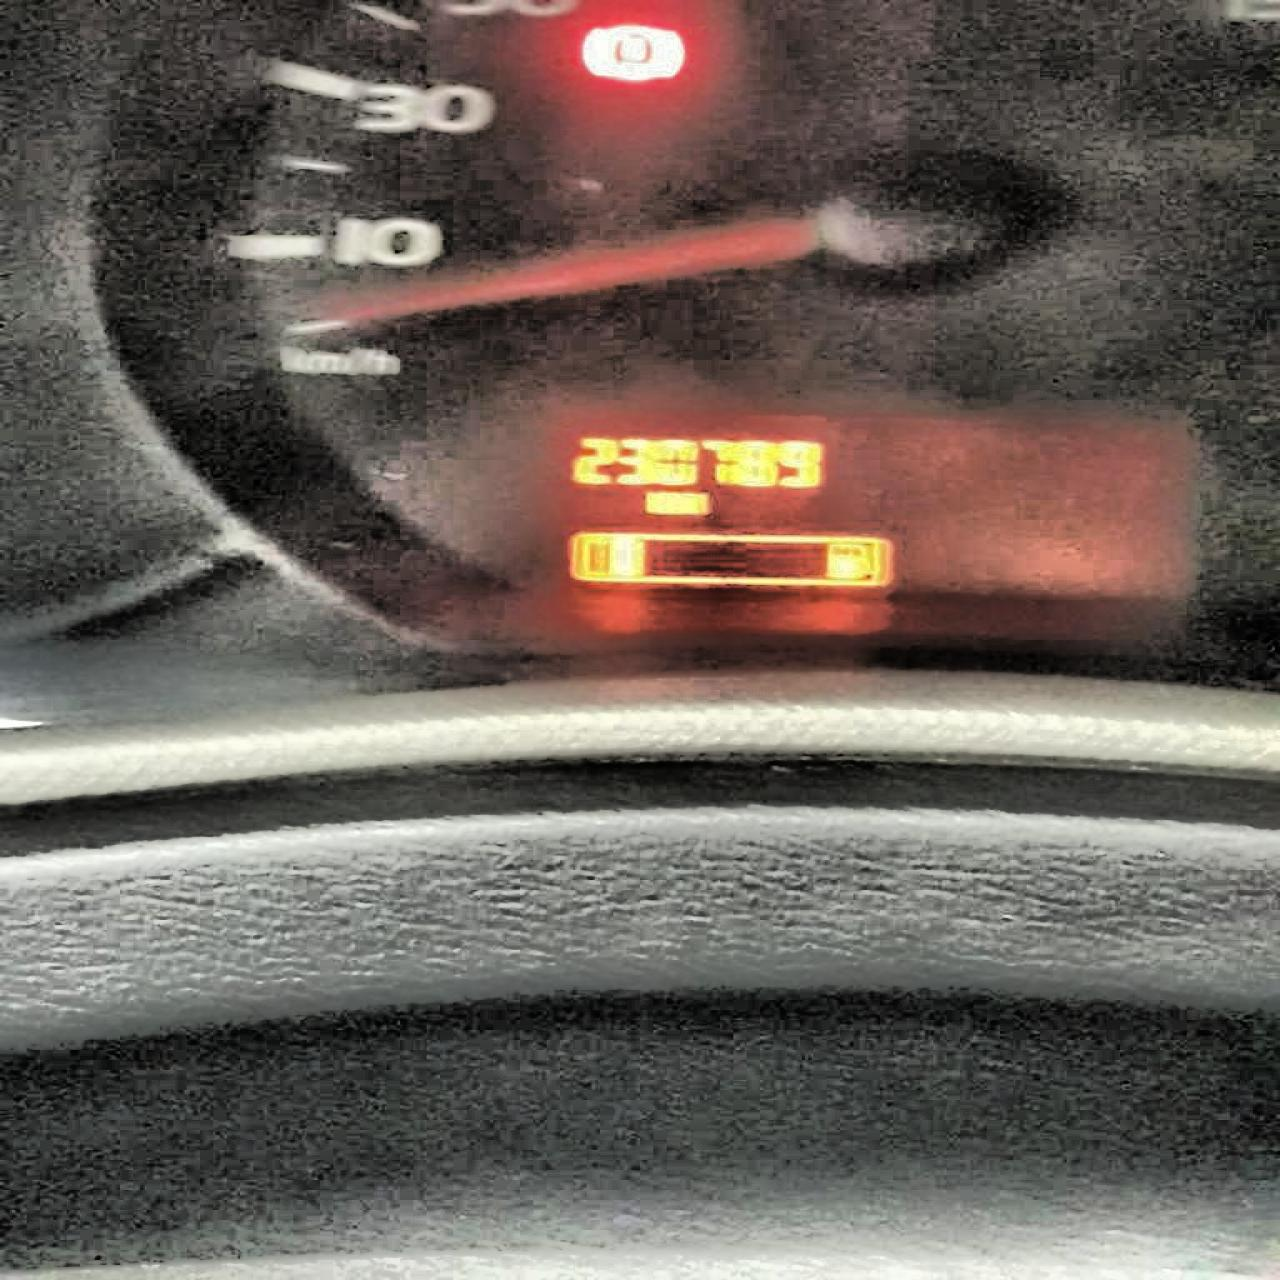0: (655, 434, 699, 489)
2: (568, 434, 614, 485)
3: (618, 435, 652, 486)
7: (700, 433, 734, 489)
8: (738, 435, 777, 491)
9: (778, 436, 824, 491)
odometer: (513, 394, 1207, 613)
